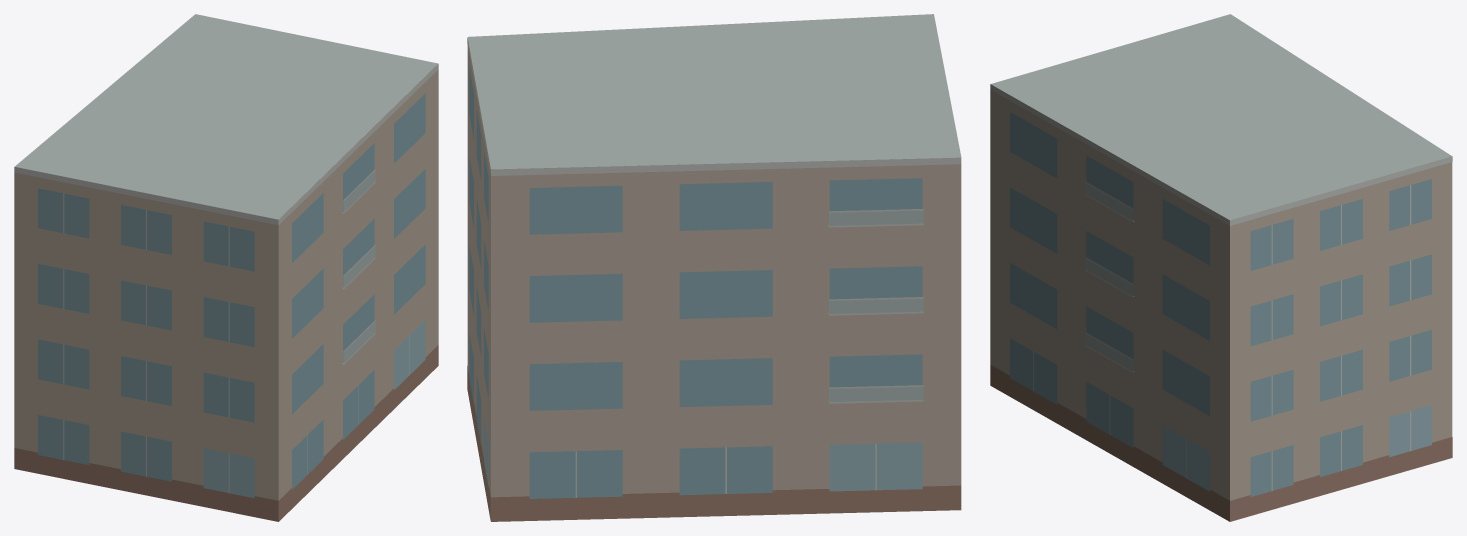
File: survey-upis-32594548.glb
3 renders of one model, left to right at view 1: azimuth 30°, elevation 25°; view 2: azimuth 150°, elevation 25°; view 3: azimuth 270°, elevation 25°, orthographic. The views are drawn at different scales.
Parts seen in each view (by area): view 1: survey-upis-32594548.tmp; view 2: survey-upis-32594548.tmp; view 3: survey-upis-32594548.tmp.
Part boxes in pixels (bbox=[...]): survey-upis-32594548.tmp: bbox=[14, 14, 438, 521]; survey-upis-32594548.tmp: bbox=[467, 14, 961, 521]; survey-upis-32594548.tmp: bbox=[990, 14, 1452, 521].
Size of the model in its own units: 19.24 by 13.1 by 18.2.
